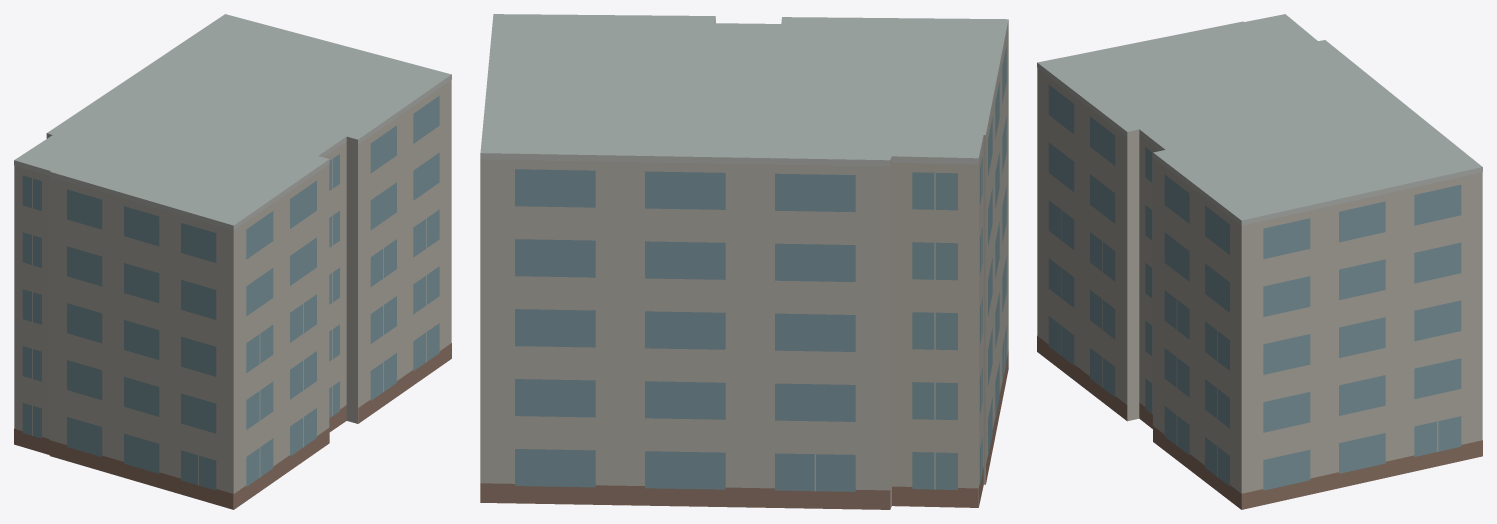
The model's file is survey-upis-33044149.glb.
3 renders of one model, left to right at view 1: azimuth 30°, elevation 25°; view 2: azimuth 150°, elevation 25°; view 3: azimuth 270°, elevation 25°, orthographic. The views are drawn at different scales.
Parts seen in each view (by area): view 1: survey-upis-33044149.tmp; view 2: survey-upis-33044149.tmp; view 3: survey-upis-33044149.tmp.
Boxes of the visible parts, <box> form: survey-upis-33044149.tmp: <box>14,14,451,509</box>; survey-upis-33044149.tmp: <box>480,14,1008,509</box>; survey-upis-33044149.tmp: <box>1037,14,1482,509</box>.
Bounding box in the file's own units: 20.82 × 13.59 × 18.98.
